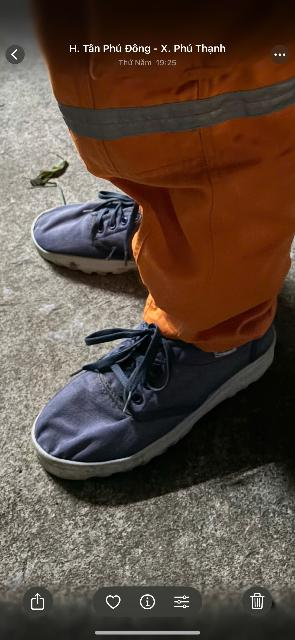shoes: (34, 310, 295, 489), (15, 179, 190, 282)
